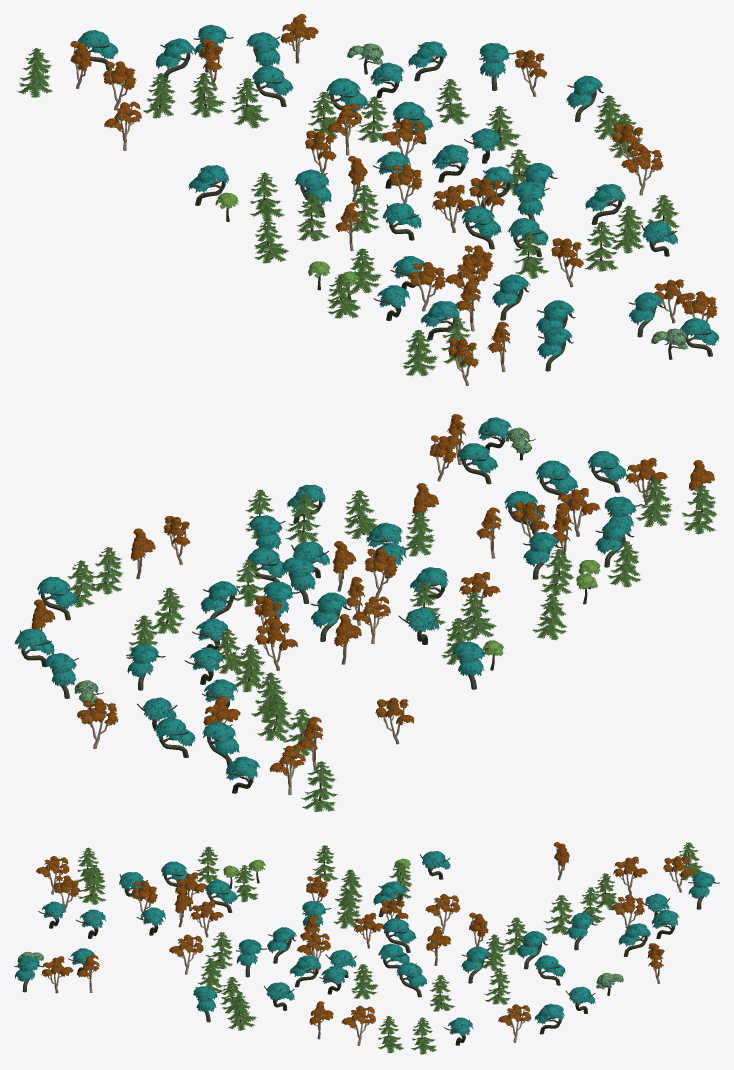
The model's file is overworld-7-4.gltf.
3 views of the same model, one above another, from view 1: azimuth 30°, elevation 25°; view 2: azimuth 150°, elevation 25°; view 3: azimuth 270°, elevation 25° (orthographic). The views are drawn at different scales.
Visible parts, largest first — view 1: 883bf022a4c95c0b0a24ce14e7511dc7b18eb62759134961097aa30193af (×27), 7e2e11a73c6c1f6b77c7c18c44a87655900818e94c168e7a92bb0a48cc87 (×19), 133dae8ce562dbc4cbf0d0d2cb7dc4cb2baafed83b6c58ebd4446a365708 (×19); view 2: 883bf022a4c95c0b0a24ce14e7511dc7b18eb62759134961097aa30193af (×28), 7e2e11a73c6c1f6b77c7c18c44a87655900818e94c168e7a92bb0a48cc87 (×19), 133dae8ce562dbc4cbf0d0d2cb7dc4cb2baafed83b6c58ebd4446a365708 (×13); view 3: 883bf022a4c95c0b0a24ce14e7511dc7b18eb62759134961097aa30193af (×31), 7e2e11a73c6c1f6b77c7c18c44a87655900818e94c168e7a92bb0a48cc87 (×23), 133dae8ce562dbc4cbf0d0d2cb7dc4cb2baafed83b6c58ebd4446a365708 (×22).
Part boxes in pixels (x1,y1,x2,y2): 883bf022a4c95c0b0a24ce14e7511dc7b18eb62759134961097aa30193af (×27): [77, 30, 718, 371]; 7e2e11a73c6c1f6b77c7c18c44a87655900818e94c168e7a92bb0a48cc87 (×19): [17, 48, 644, 376]; 133dae8ce562dbc4cbf0d0d2cb7dc4cb2baafed83b6c58ebd4446a365708 (×19): [103, 14, 717, 385]; 883bf022a4c95c0b0a24ce14e7511dc7b18eb62759134961097aa30193af (×28): [14, 417, 641, 793]; 7e2e11a73c6c1f6b77c7c18c44a87655900818e94c168e7a92bb0a48cc87 (×19): [67, 478, 717, 811]; 133dae8ce562dbc4cbf0d0d2cb7dc4cb2baafed83b6c58ebd4446a365708 (×13): [77, 435, 667, 795]; 883bf022a4c95c0b0a24ce14e7511dc7b18eb62759134961097aa30193af (×31): [14, 851, 719, 1045]; 7e2e11a73c6c1f6b77c7c18c44a87655900818e94c168e7a92bb0a48cc87 (×23): [76, 842, 703, 1054]; 133dae8ce562dbc4cbf0d0d2cb7dc4cb2baafed83b6c58ebd4446a365708 (×22): [36, 856, 694, 1045].
Size of the model in its own units: 72.69 by 10.88 by 127.
10 materials, 10 textured.
